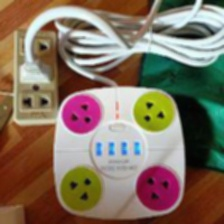three_eye_plug: (49, 83, 187, 222), (10, 25, 64, 128)
